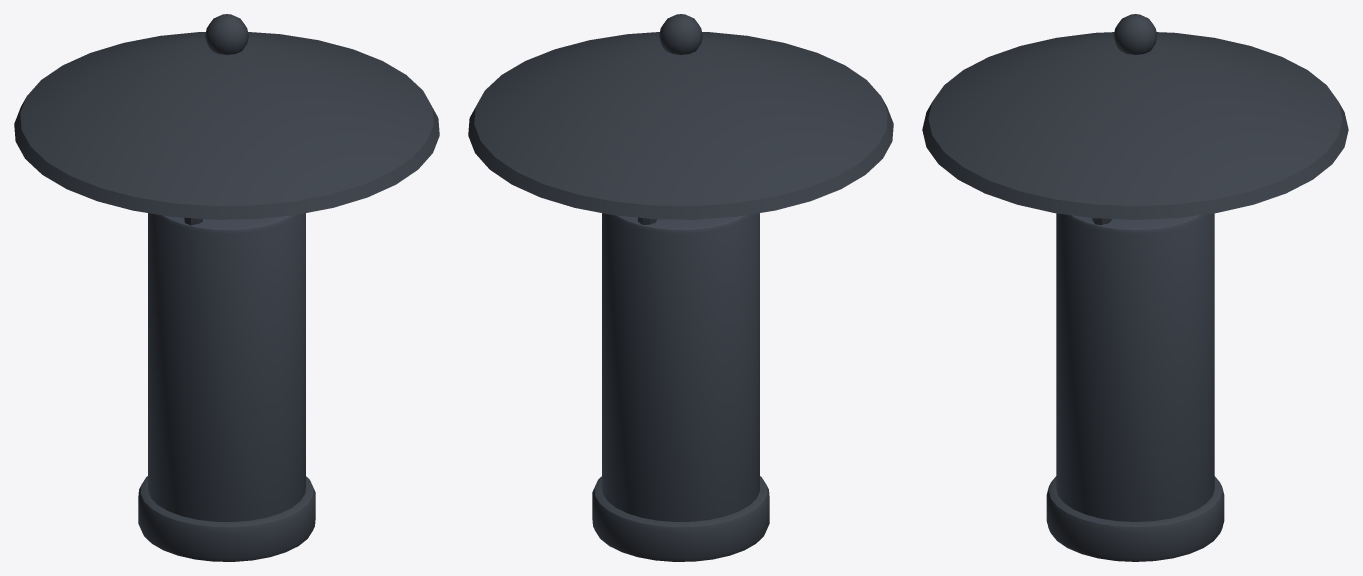
Rendered from tubo_chamine_chapeu.glb.
3 renders of one model, left to right at view 1: azimuth 30°, elevation 25°; view 2: azimuth 150°, elevation 25°; view 3: azimuth 270°, elevation 25°, orthographic.
Parts seen in each view (by area): view 1: tubo_chamine_chapeu; view 2: tubo_chamine_chapeu; view 3: tubo_chamine_chapeu.
Part boxes in pixels (box(x1,y1,x2,y2)): tubo_chamine_chapeu: box(14, 14, 439, 561); tubo_chamine_chapeu: box(468, 14, 893, 561); tubo_chamine_chapeu: box(922, 14, 1348, 561).
Bounding box in the file's own units: 0.35 × 0.463 × 0.35.
1 material, 1 textured.
